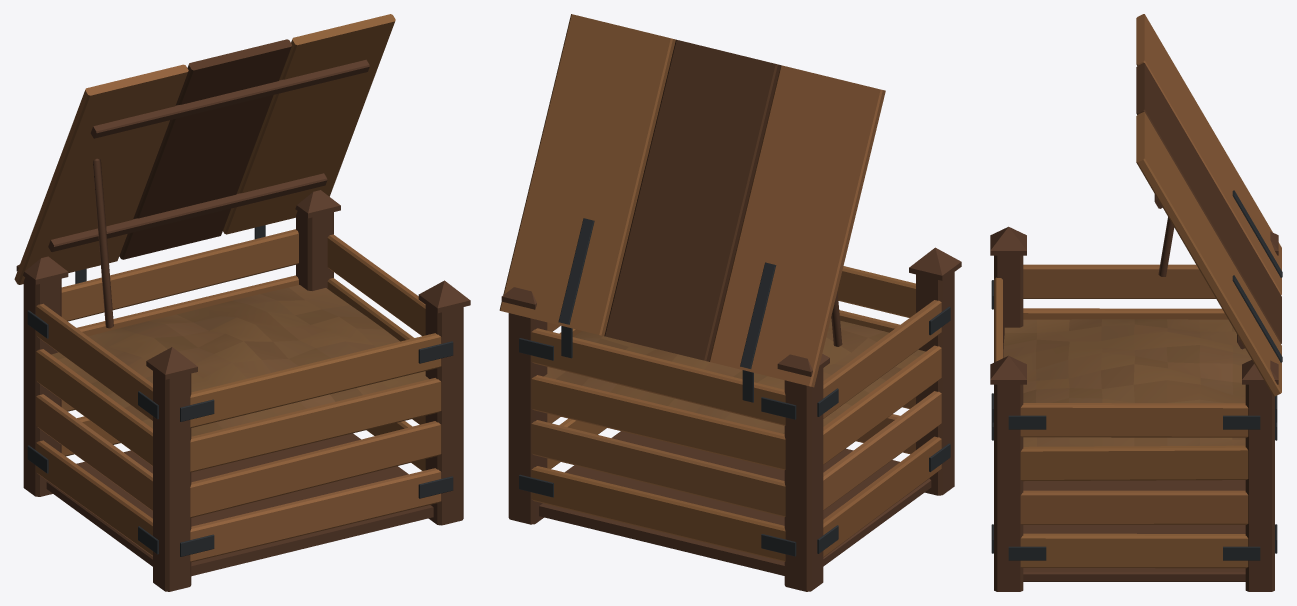
The model's file is prop_worm_compost_a.glb.
3 renders of one model, left to right at view 1: azimuth 30°, elevation 25°; view 2: azimuth 150°, elevation 25°; view 3: azimuth 270°, elevation 25°, orthographic. The views are drawn at different scales.
Parts seen in each view (by area): view 1: prop_worm_compost_a_mesh; view 2: prop_worm_compost_a_mesh; view 3: prop_worm_compost_a_mesh.
Boxes of the visible parts, x1,y1,x2,y2 form: prop_worm_compost_a_mesh: [14, 14, 470, 591]; prop_worm_compost_a_mesh: [499, 14, 961, 591]; prop_worm_compost_a_mesh: [990, 14, 1282, 591].
Size of the model in its own units: 1.29 by 1.79 by 1.09.
